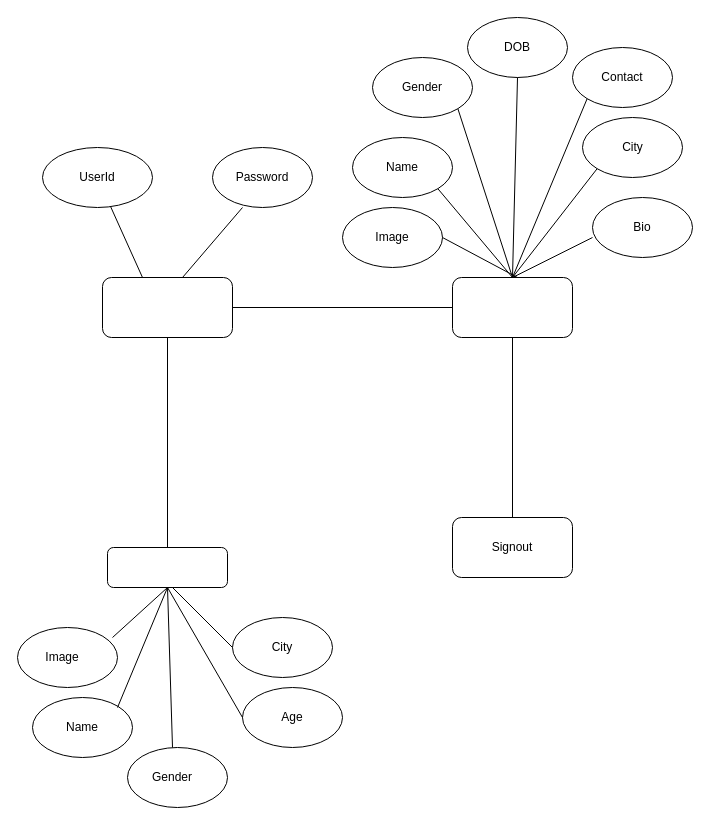
This 710x825 diagram has some shape labels left out. Here are the shapes that lost their labels. From the top down, the centre of each, then its label:
At point (167, 307): "Login".
At point (512, 307): "User".
At point (167, 567): "Searches".
